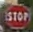stop: (3, 3, 31, 28)
